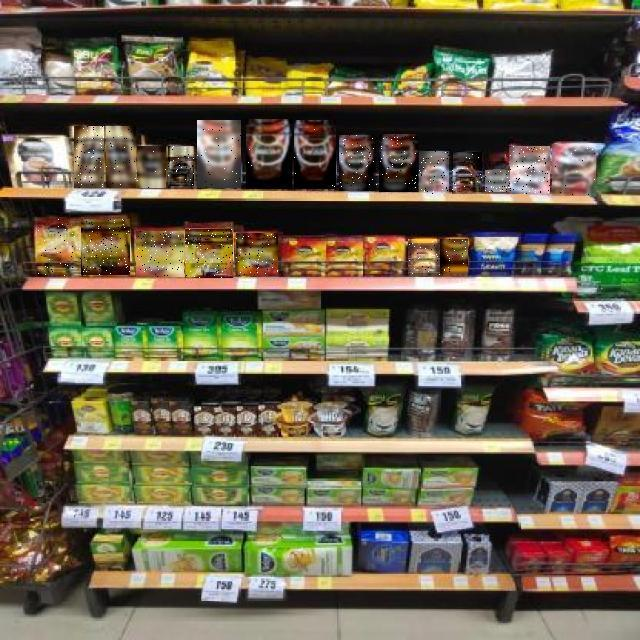Coffee: (246, 119, 292, 189), (197, 120, 241, 188), (295, 120, 337, 189), (81, 219, 130, 275), (37, 218, 83, 276), (185, 228, 233, 278), (552, 144, 596, 196), (379, 134, 418, 192), (136, 231, 184, 277), (340, 135, 378, 191), (510, 146, 550, 194), (106, 126, 136, 188), (74, 126, 104, 188), (236, 233, 278, 276), (419, 151, 449, 194), (452, 152, 482, 194), (137, 146, 166, 188), (408, 240, 440, 276), (169, 146, 195, 186), (441, 240, 469, 276), (485, 170, 510, 192)
